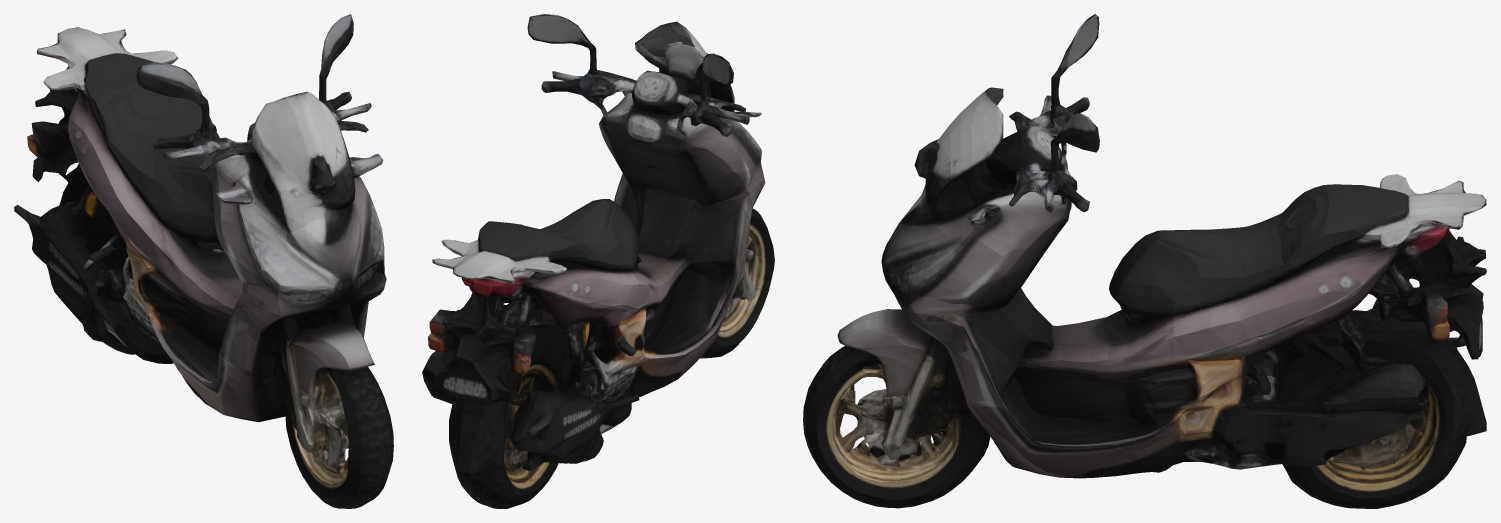
Rendered from CTV 180.glb.
3 renders of one model, left to right at view 1: azimuth 30°, elevation 25°; view 2: azimuth 150°, elevation 25°; view 3: azimuth 270°, elevation 25°, orthographic. The views are drawn at different scales.
Visible parts, largest first — view 1: world; view 2: world; view 3: world.
Boxes of the visible parts, left/top/right/bottom form: world: left=14, top=14, right=393, bottom=508; world: left=422, top=14, right=774, bottom=508; world: left=803, top=14, right=1486, bottom=508.
Size of the model in its own units: 0.4006 by 0.7082 by 1.
Materials: 1 (1 with a texture image).
